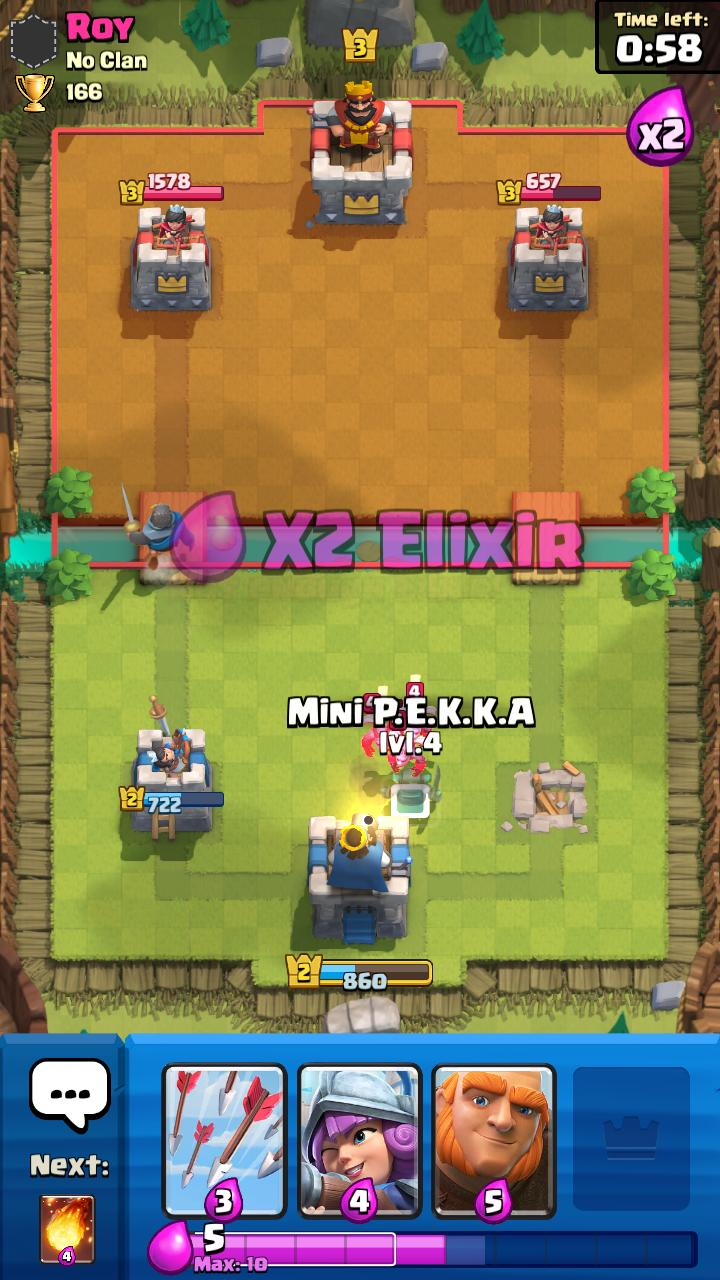ally: (121, 482, 195, 570)
enemy: (387, 710, 426, 777), (362, 694, 401, 758), (400, 682, 437, 740)
